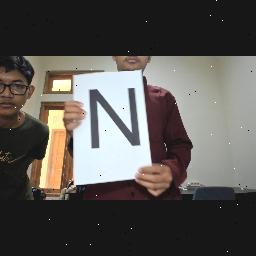n: (83, 86, 143, 154)
